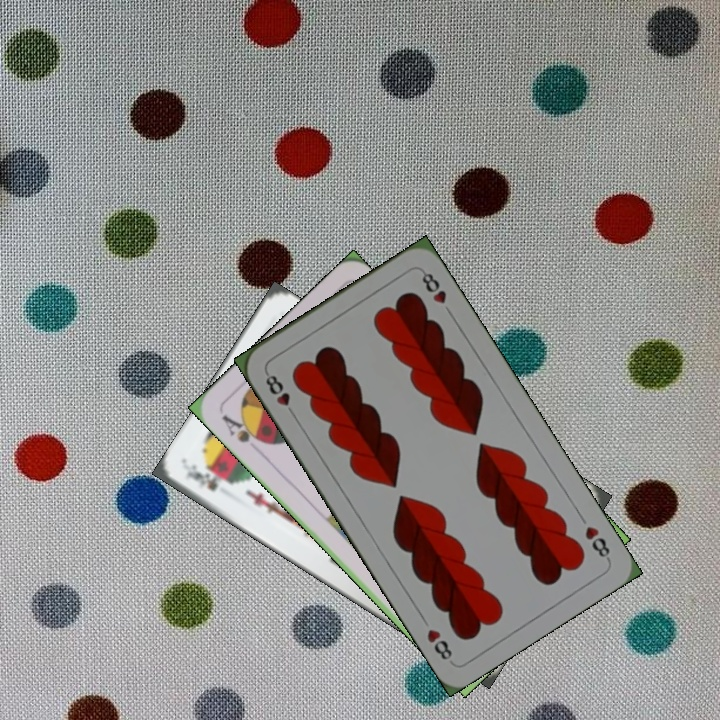H8: (261, 368, 299, 420), (581, 522, 613, 564)
SA: (217, 410, 270, 448)
SK: (182, 460, 221, 494)
